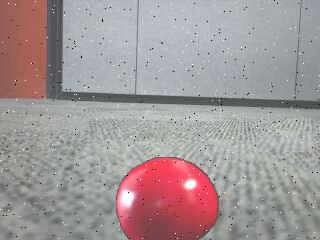Tomato: (112, 156, 221, 240)
